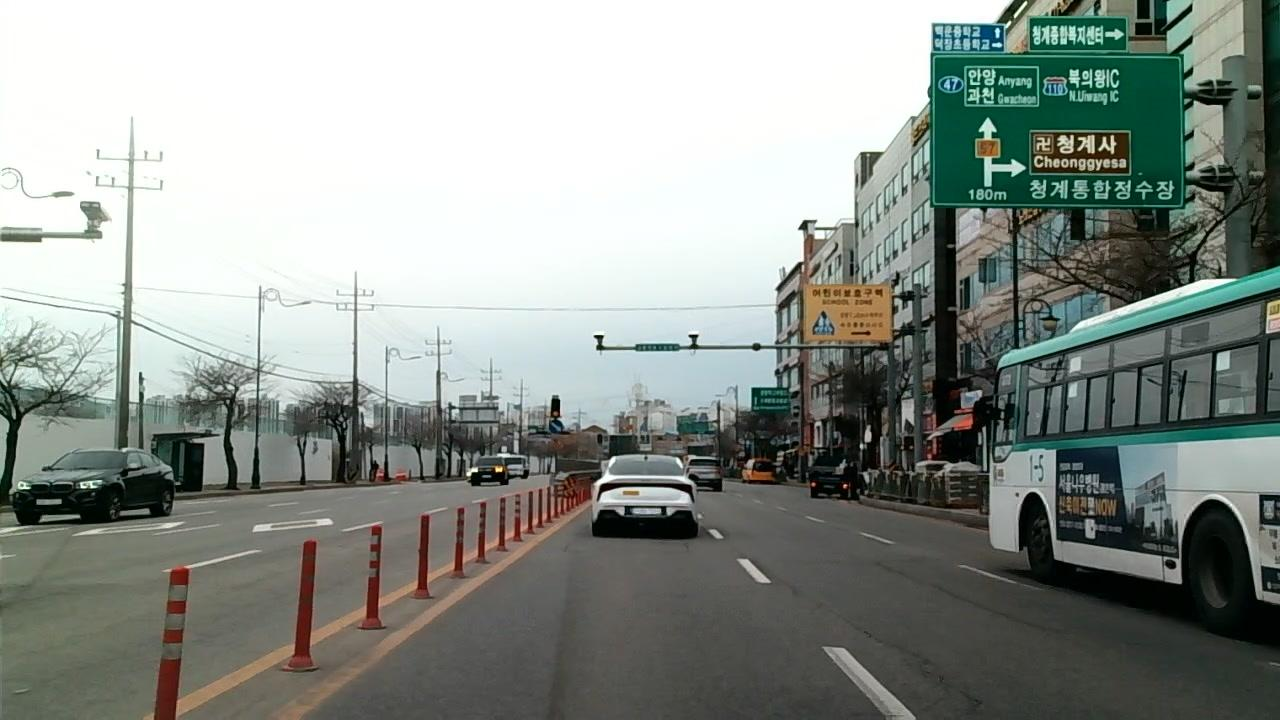vcrack: (814, 606, 987, 720), (874, 561, 1051, 637)
